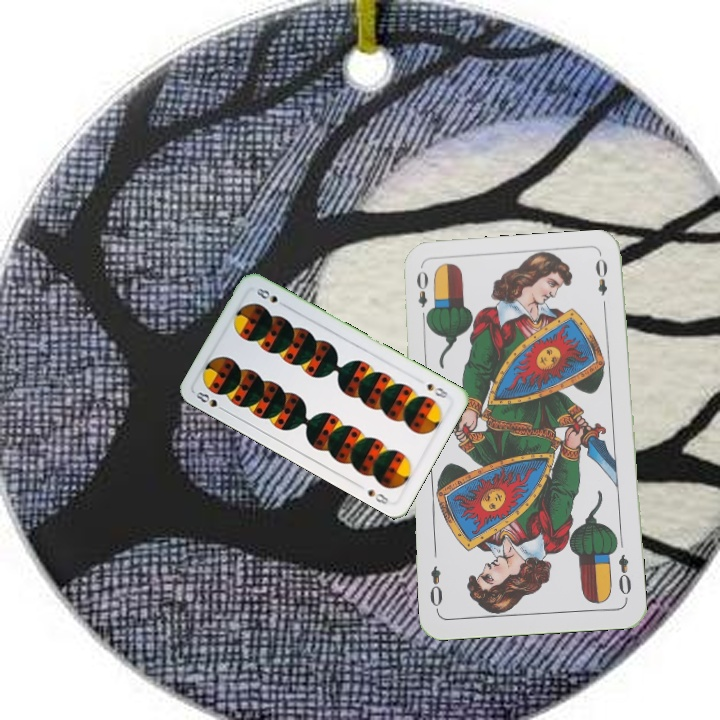EO: (412, 266, 434, 325), (614, 550, 634, 598)
S8: (192, 387, 229, 415), (423, 379, 451, 401)
